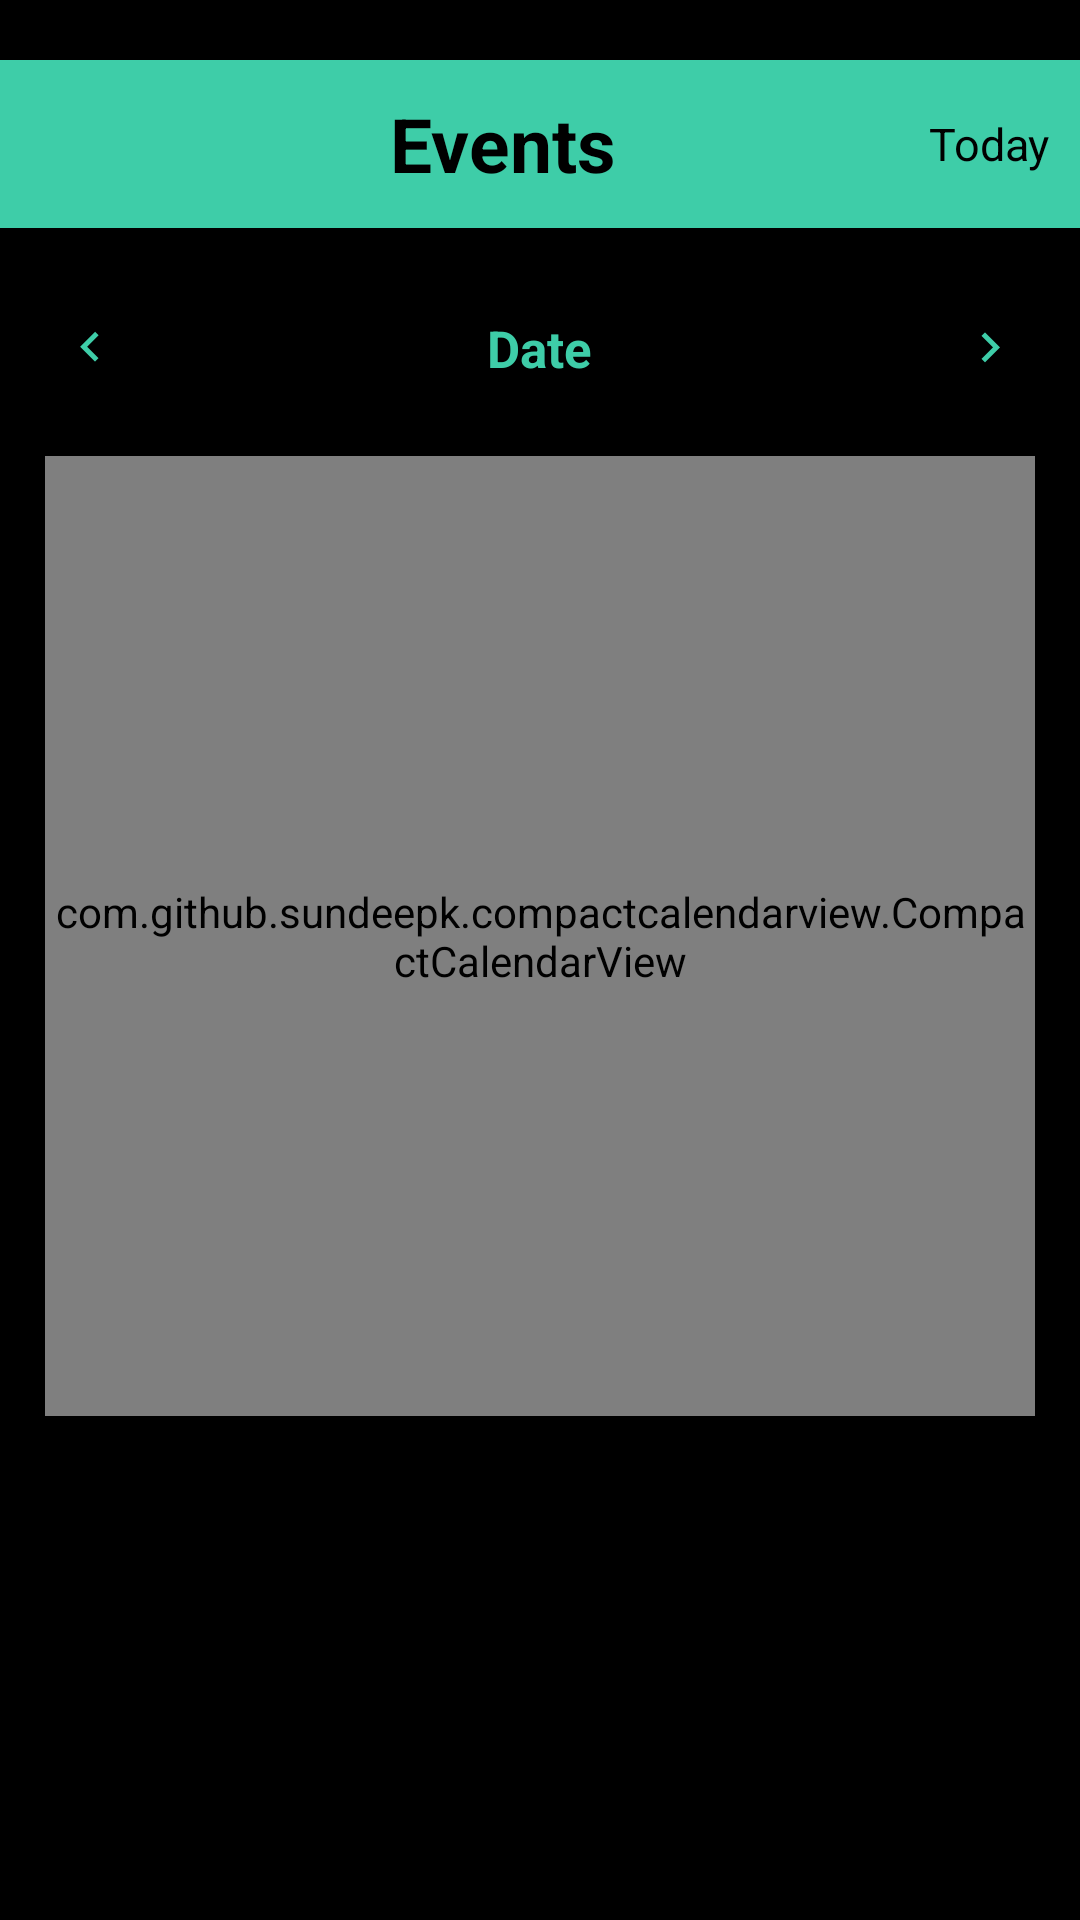

Icon click points for this 1080*1920 phone screenshot, format (x,y):
keyboard arrow: (89,347)
keyboard arrow right: (990,347)
